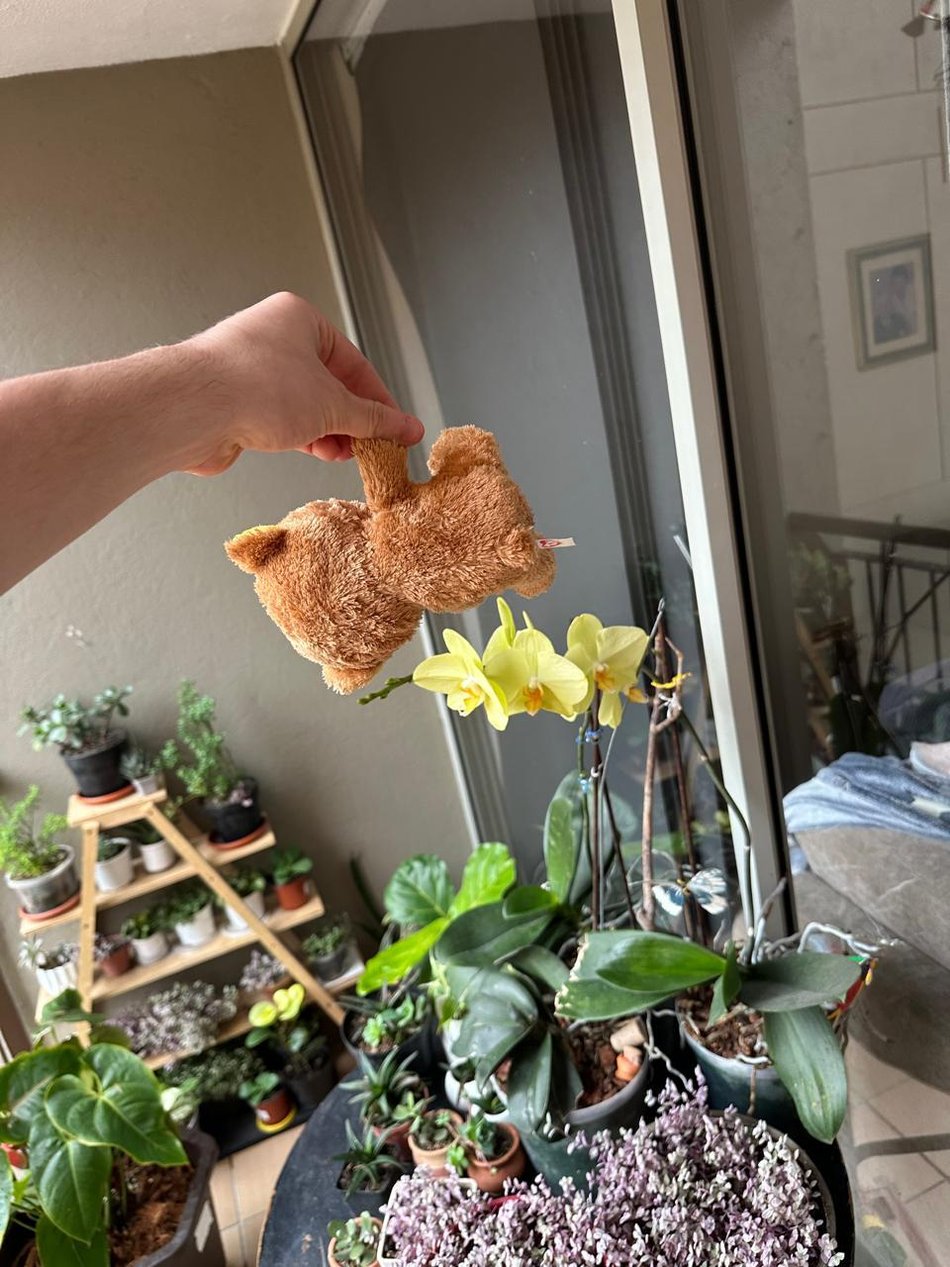peluche_sebastian: (225, 431, 571, 698)
